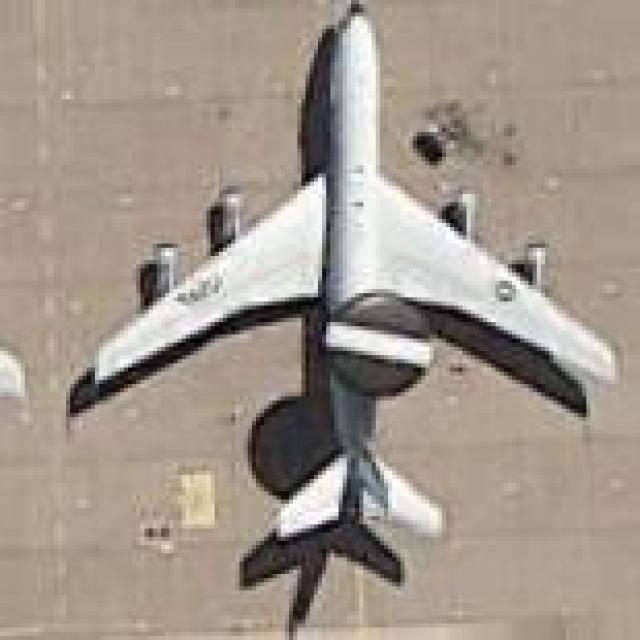E-3_TopDown: (62, 0, 619, 636)
